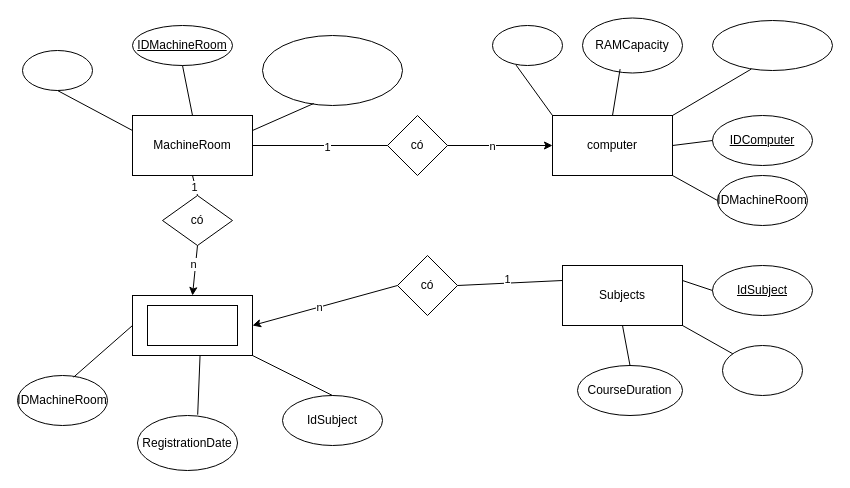
Some shapes in this 850 by 488 pixel diagram are drawn without their labels. Each missing label, with the centre of its shape:
"CPUSpeed" belongs at (x=527, y=45).
"HardDriveCapacity" belongs at (x=772, y=45).
"NameManager" belongs at (x=332, y=70).
"NameRoom" belongs at (x=57, y=70).
"NameSubject" belongs at (x=762, y=370).
"signIn" belongs at (x=192, y=325).
